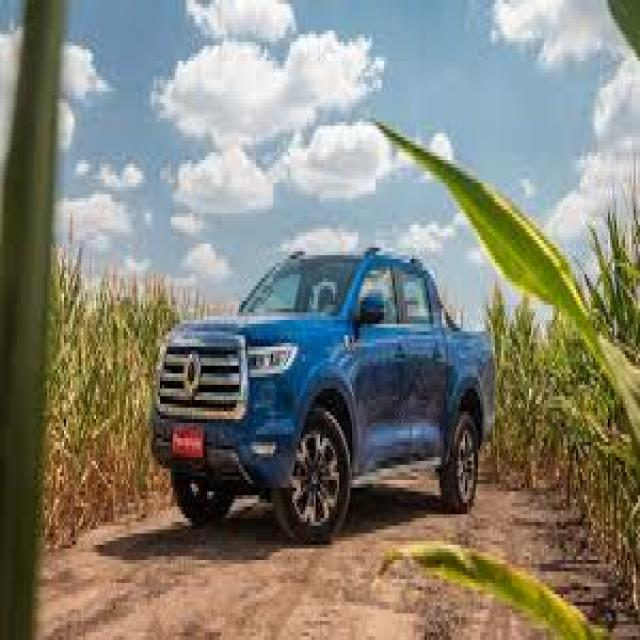CMT: (152, 243, 490, 542)
